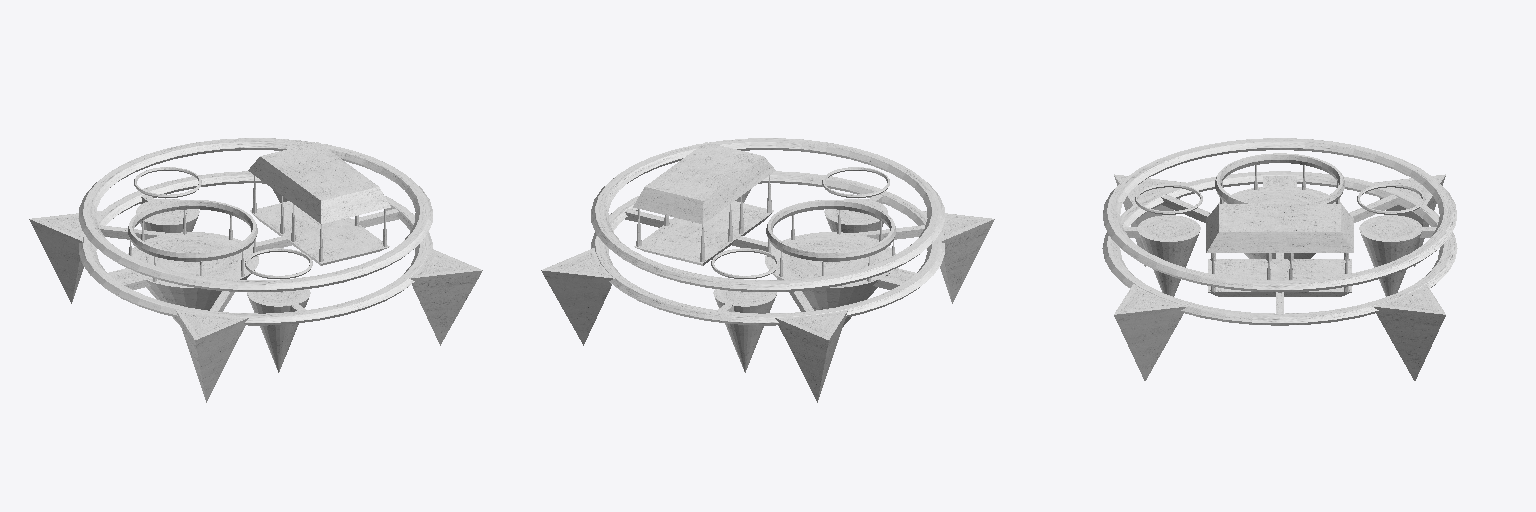
3 renders of one model, left to right at view 1: azimuth 30°, elevation 25°; view 2: azimuth 150°, elevation 25°; view 3: azimuth 270°, elevation 25°, orthographic.
Visible parts, largest first — view 1: Torus1, Torus, Box13, Cone5, Box5, Cone3, Cone4, Cone1, Torus3, Cone8, Cone7, Box8 (+2 smaller); view 2: Torus1, Torus, Box13, Cone5, Box5, Cone2, Cone1, Cone4, Torus3, Cone7, Cone8, Box8 (+2 smaller); view 3: Torus1, Torus, Box13, Cone3, Cone2, Box5, Cone7, Cone8, Torus3, Cone5, Cone1, Cone4 (+2 smaller).
Part boxes in pixels (bbox=[...]): Torus1: bbox=[79, 138, 432, 291]; Torus: bbox=[79, 171, 432, 325]; Box13: bbox=[248, 142, 390, 223]; Cone5: bbox=[128, 232, 258, 326]; Box5: bbox=[250, 201, 389, 265]; Cone3: bbox=[409, 248, 482, 345]; Cone4: bbox=[175, 309, 248, 402]; Cone1: bbox=[29, 211, 101, 303]; Torus3: bbox=[128, 200, 257, 261]; Cone8: bbox=[247, 289, 310, 372]; Cone7: bbox=[136, 198, 199, 232]; Box8: bbox=[251, 209, 398, 251]; Torus1: bbox=[591, 138, 944, 291]; Torus: bbox=[591, 171, 944, 325]; Box13: bbox=[633, 142, 775, 223]; Cone5: bbox=[765, 232, 895, 326]; Box5: bbox=[634, 201, 773, 265]; Cone2: bbox=[541, 248, 614, 345]; Cone1: bbox=[775, 309, 848, 402]; Cone4: bbox=[922, 211, 994, 303]; Torus3: bbox=[766, 200, 895, 261]; Cone7: bbox=[713, 289, 776, 372]; Cone8: bbox=[824, 198, 887, 232]; Box8: bbox=[625, 209, 772, 251]; Torus1: bbox=[1103, 138, 1456, 292]; Torus: bbox=[1102, 171, 1457, 325]; Box13: bbox=[1206, 204, 1353, 252]; Cone3: bbox=[1114, 284, 1187, 380]; Cone2: bbox=[1372, 284, 1445, 380]; Box5: bbox=[1208, 259, 1351, 296]; Cone7: bbox=[1359, 215, 1422, 296]; Cone8: bbox=[1137, 215, 1200, 296]; Torus3: bbox=[1215, 153, 1344, 203]; Cone5: bbox=[1215, 186, 1344, 258]; Cone1: bbox=[1374, 174, 1445, 266]; Cone4: bbox=[1114, 174, 1185, 266].
Size of the model in its own units: 40 by 17.16 by 40.
Materials: 1 (1 with a texture image).